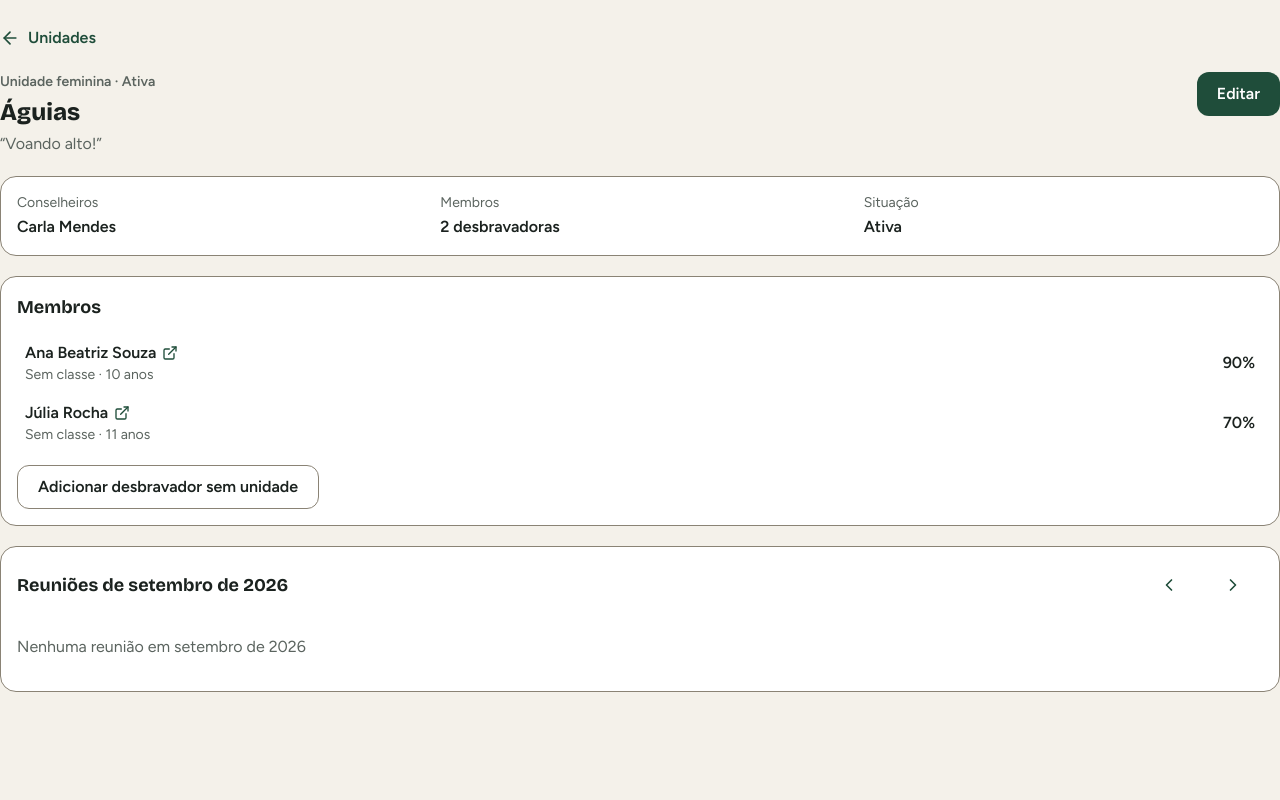
Test: ficha da unidade › trocar o mês mantém o cartão e as setas; só a lista espera
Click the button named "Mês anterior" at (1169, 585), box [1139,563,1199,607]
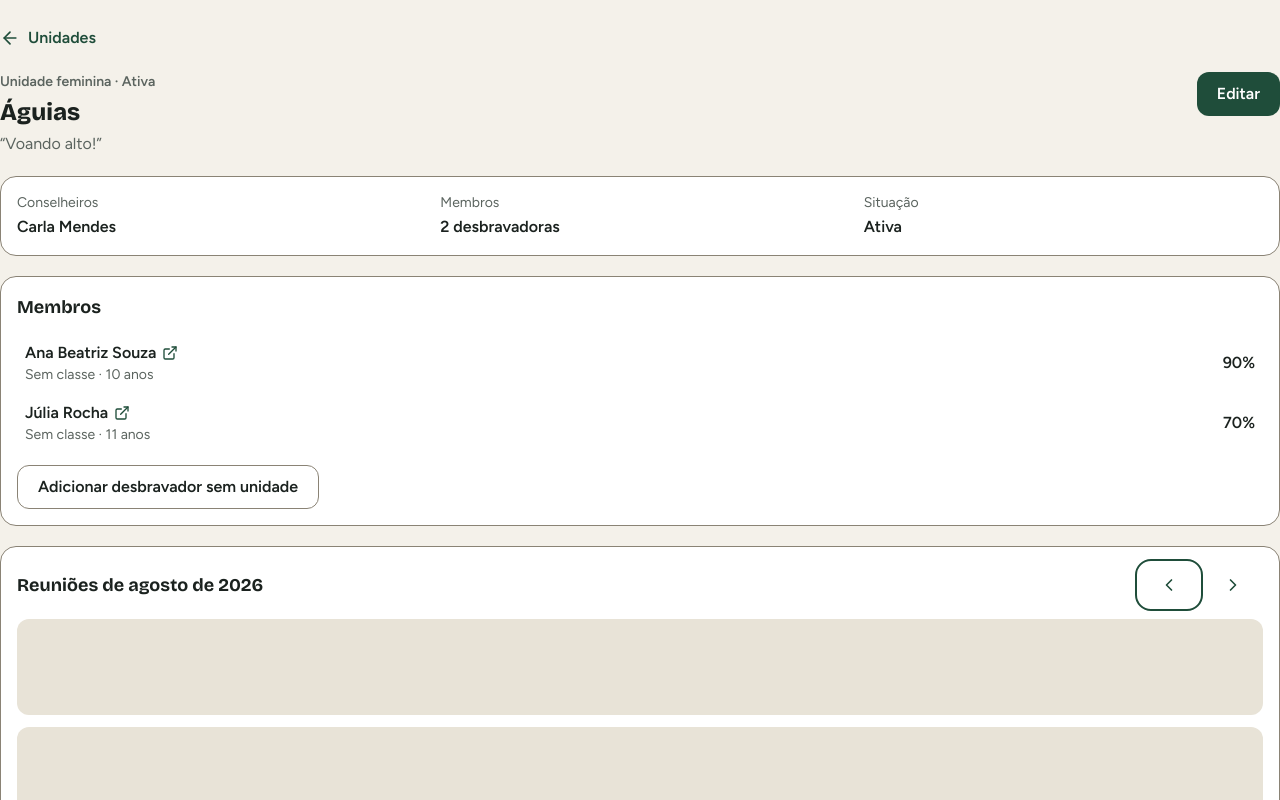
Expected: the heading "Reuniões de agosto de 2026" is shown, [17,571,263,599]
